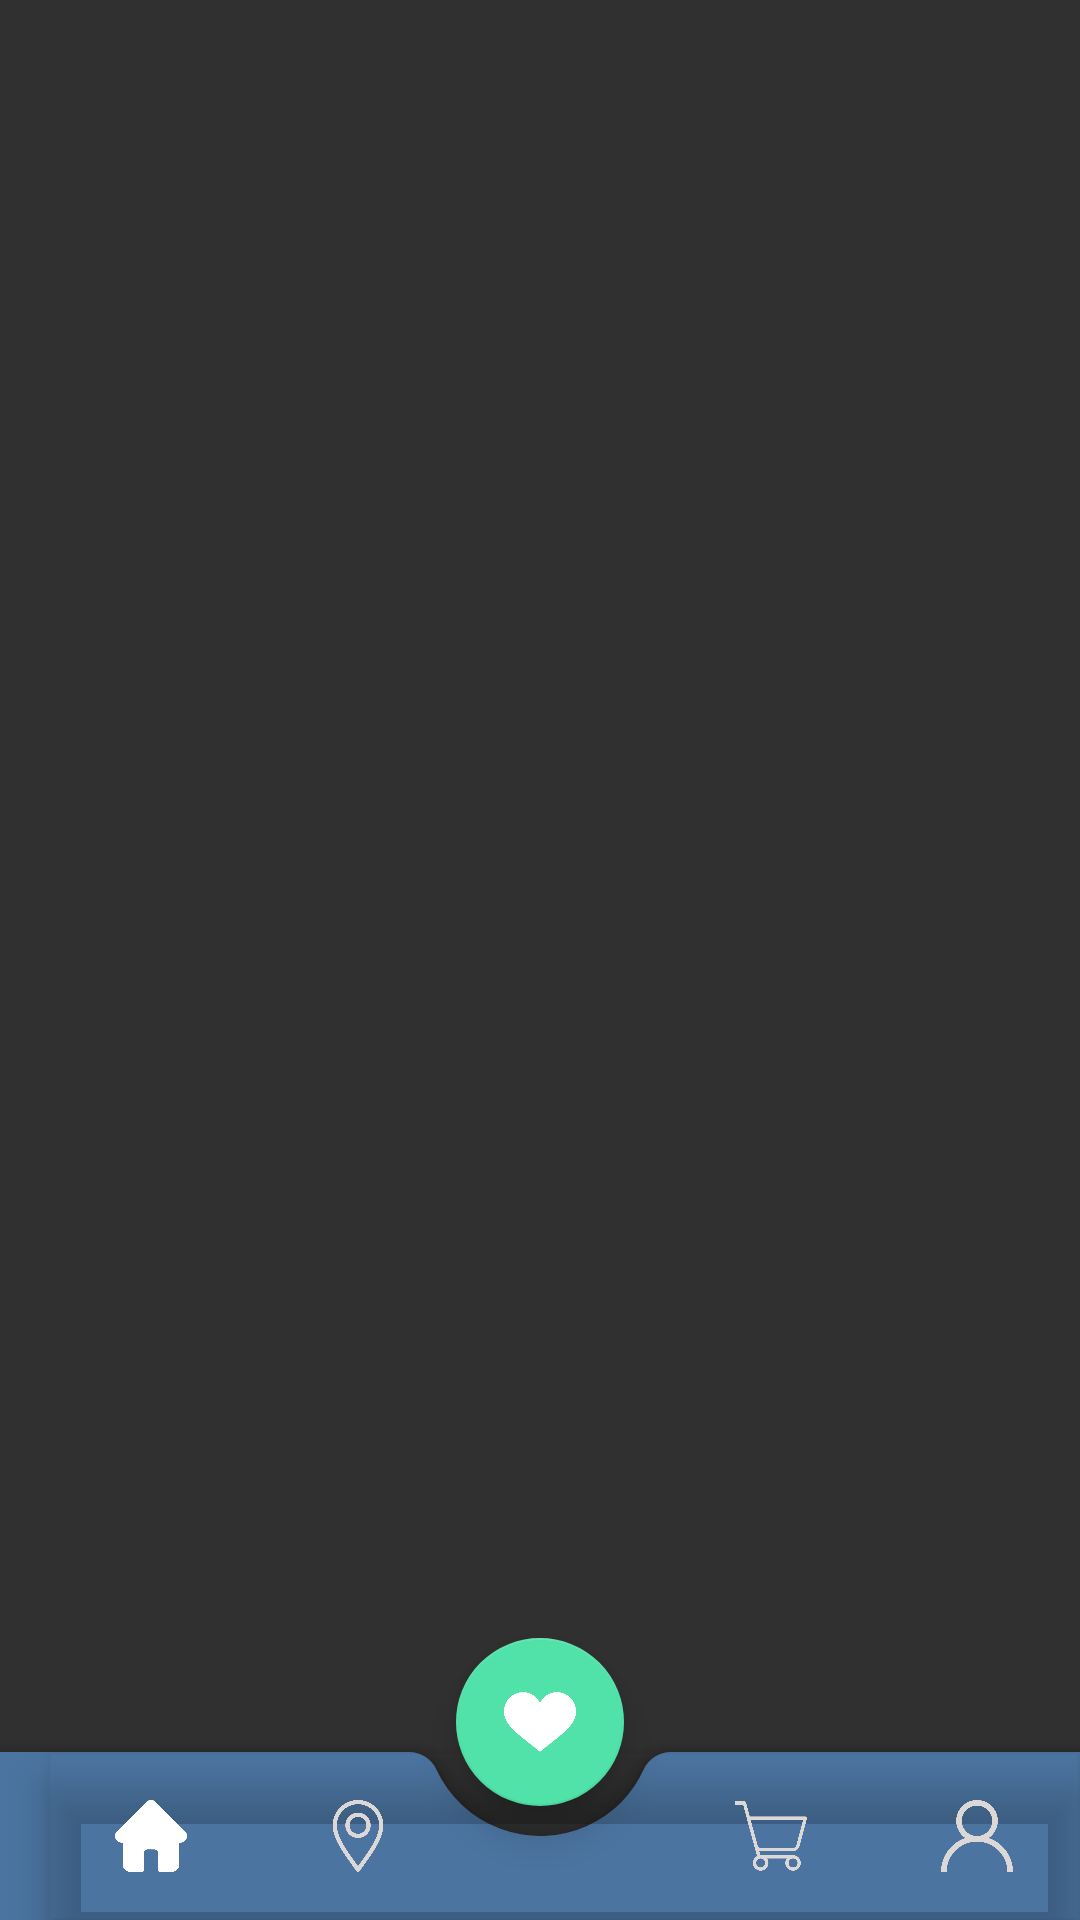

Icon click points for this 1080x1920 phone screenshot, format [x,y]:
like: [540,1752]
